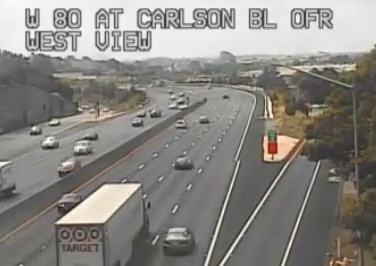car: (163, 227, 194, 255), (58, 193, 82, 212), (175, 157, 193, 170), (174, 120, 186, 129)
truck: (54, 183, 149, 266)
